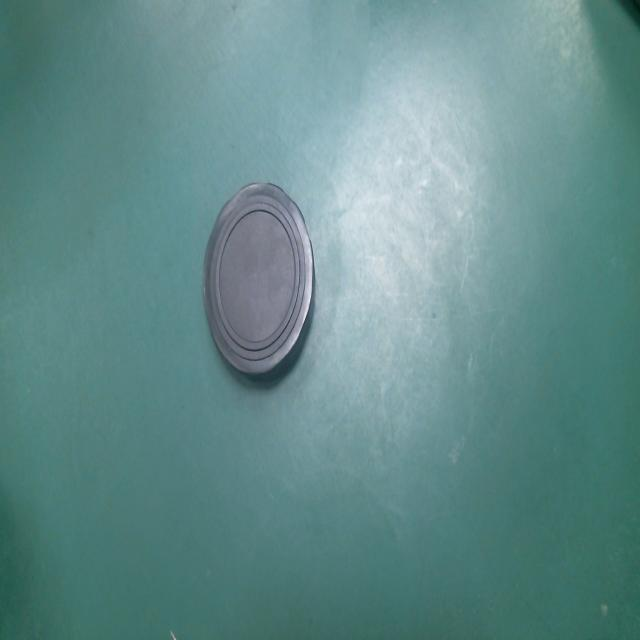cover: (197, 169, 327, 400)
